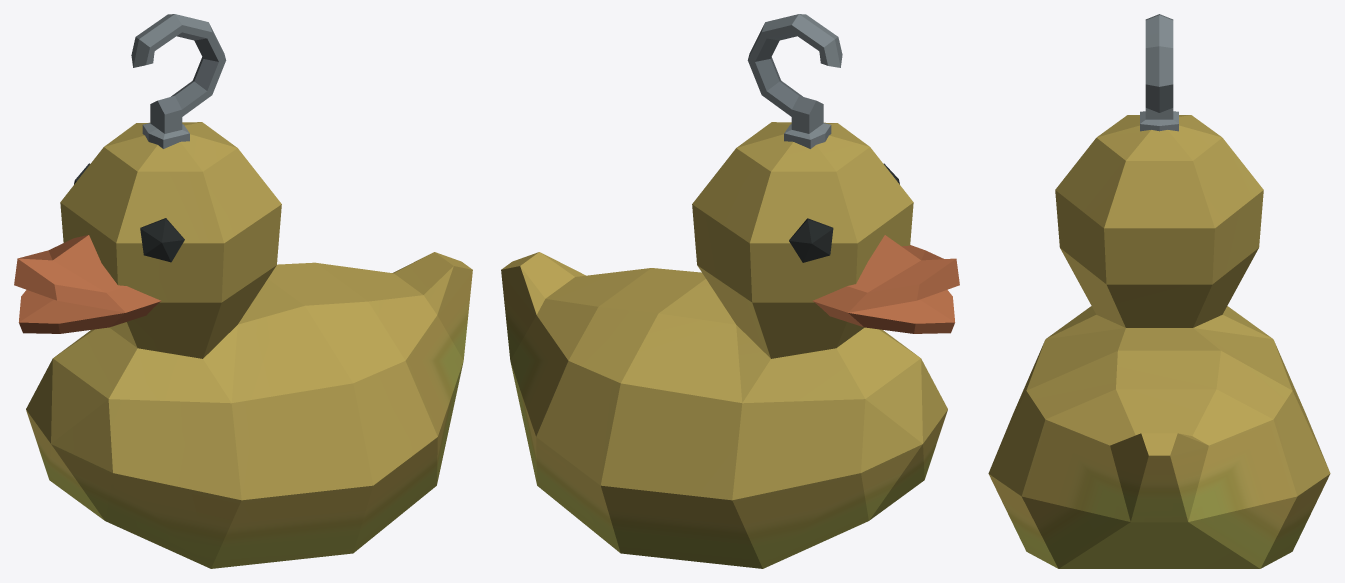
The model's file is SM_Prop_Rubber_Ducky_01.glb.
3 views of the same model, side by side, from view 1: azimuth 30°, elevation 25°; view 2: azimuth 150°, elevation 25°; view 3: azimuth 270°, elevation 25° (orthographic). The views are drawn at different scales.
Parts seen in each view (by area): view 1: SM_Prop_Rubber_Ducky_01; view 2: SM_Prop_Rubber_Ducky_01; view 3: SM_Prop_Rubber_Ducky_01.
Boxes of the visible parts, <box> form: SM_Prop_Rubber_Ducky_01: <box>14,14,472,568</box>; SM_Prop_Rubber_Ducky_01: <box>501,14,959,568</box>; SM_Prop_Rubber_Ducky_01: <box>988,14,1330,568</box>.
Size of the model in its own units: 15.77 by 17.1 by 10.89.
Materials: 1 (1 with a texture image).
